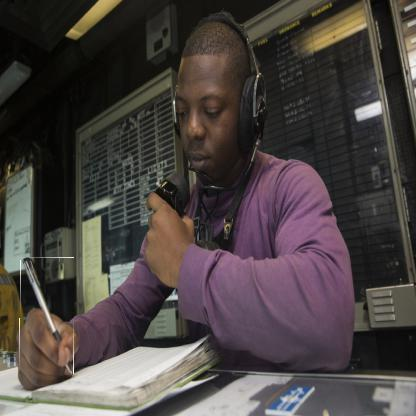Pen: (20, 257, 74, 376)
